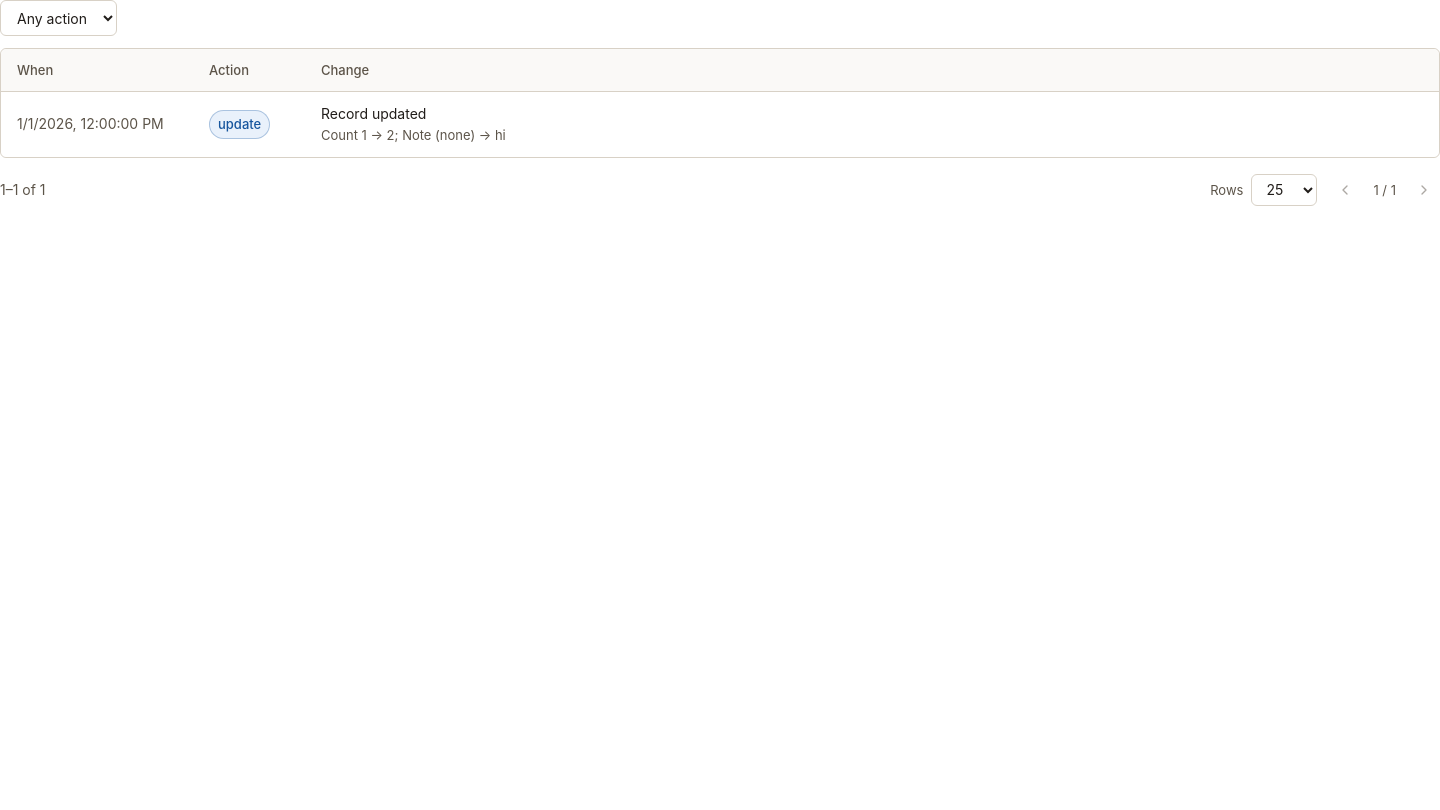
Test: AuditTrail › says why an entry cannot be undone
The image size is (1440, 810).
Click the text "Record updated" at (374, 114), box left=321, top=105, right=426, bottom=122
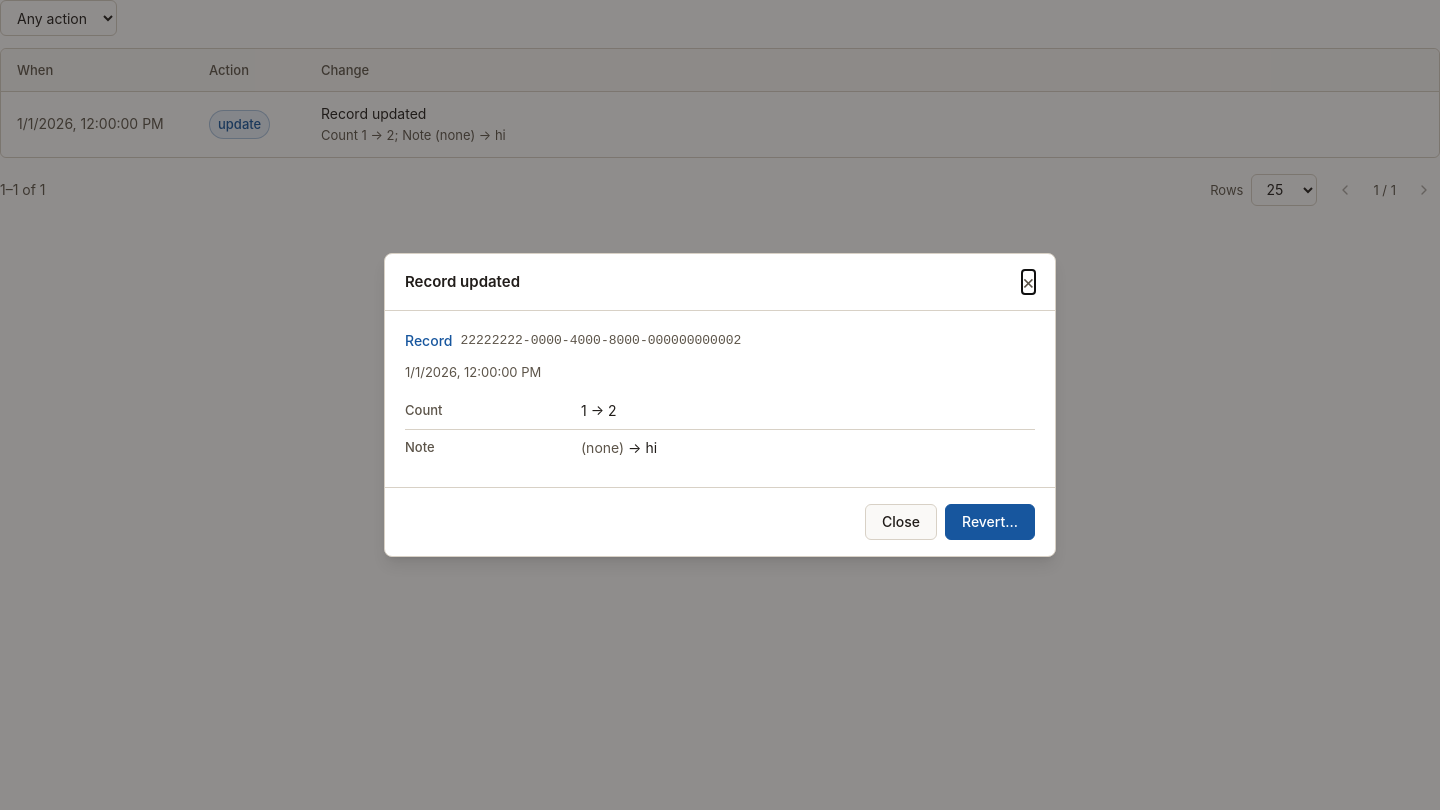
Click the button "Revert…" at (990, 522), box left=945, top=504, right=1035, bottom=540
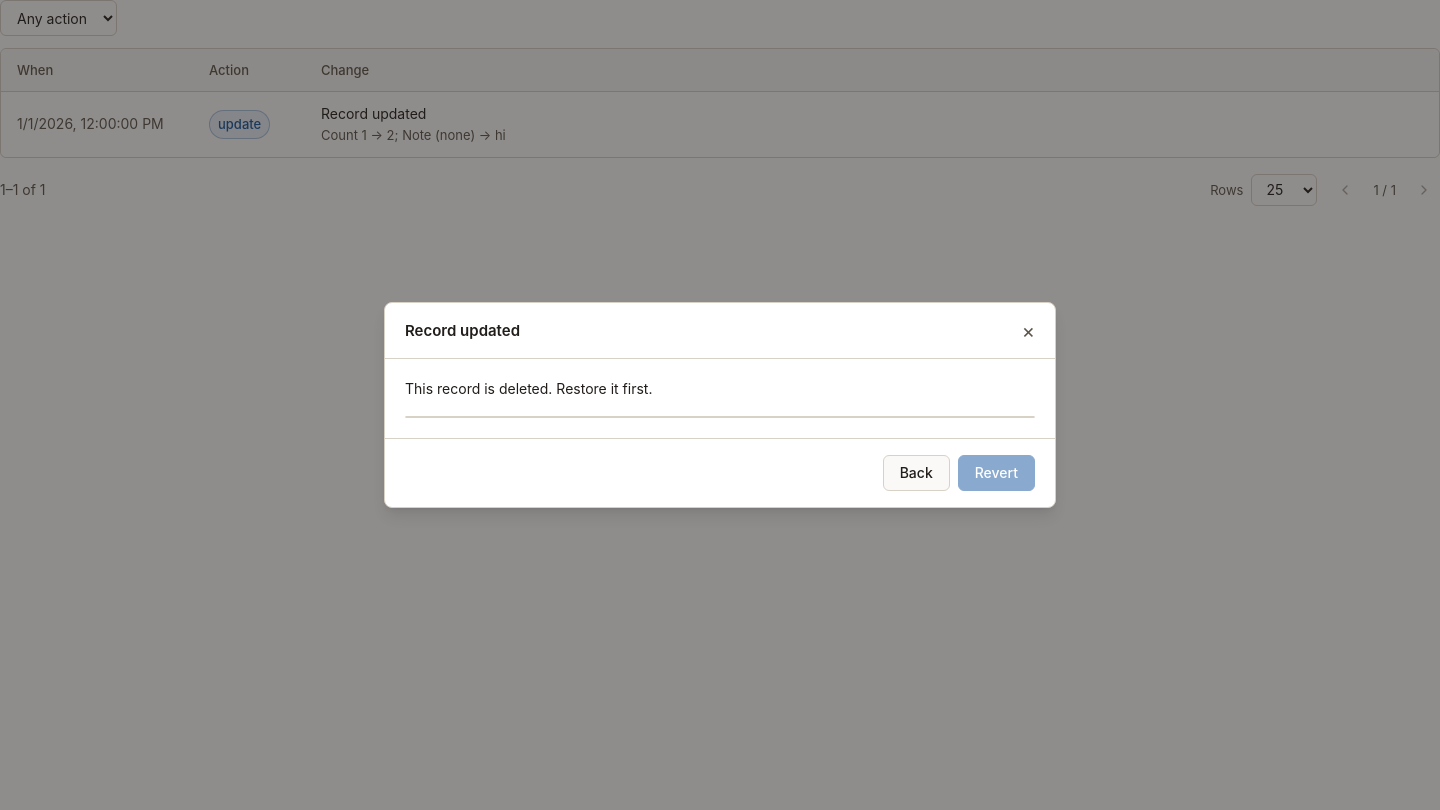
expect the text "This record is deleted. Restore it first." is shown: met, box left=405, top=380, right=652, bottom=398
expect the button "Revert" is disabled: met, box left=958, top=455, right=1035, bottom=491
